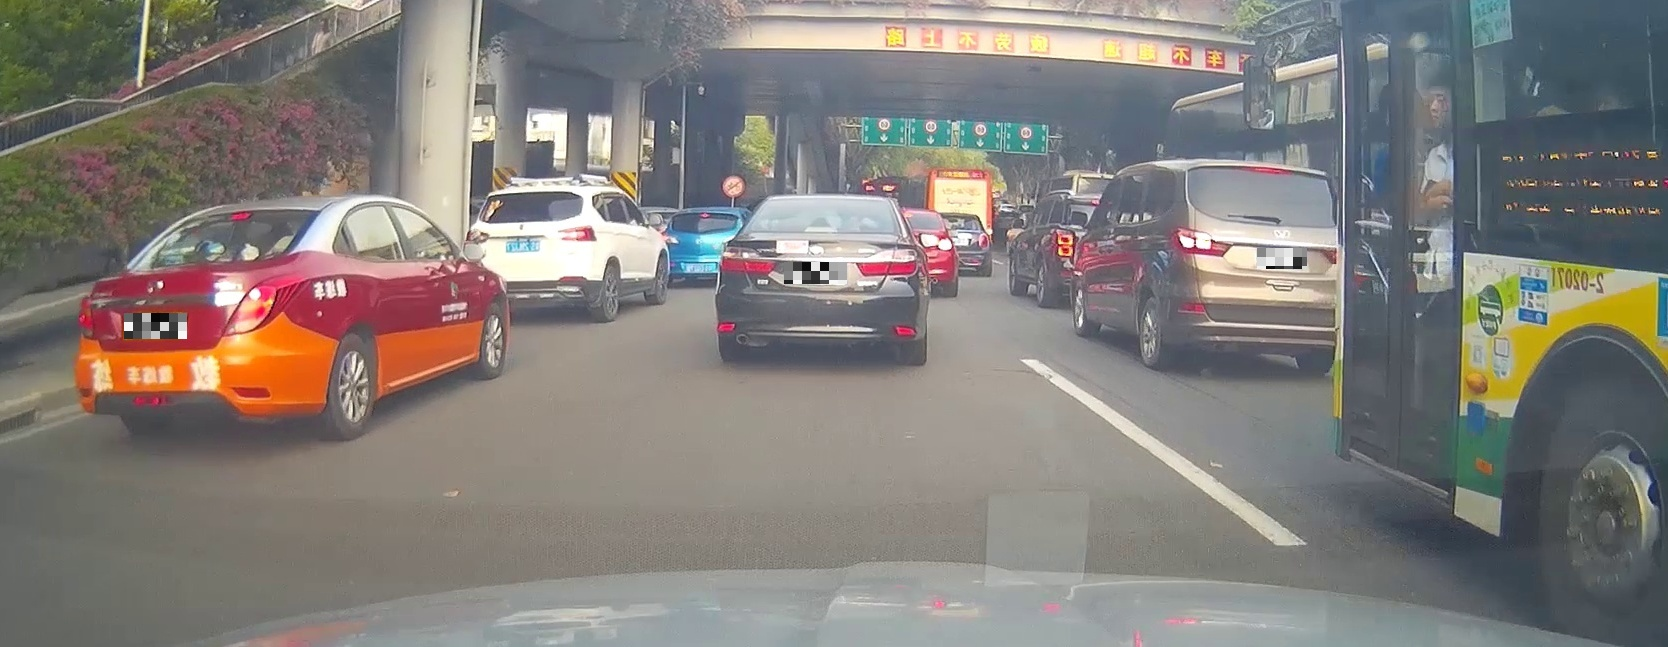L_light: (1170, 227, 1234, 258), (719, 247, 775, 275), (77, 297, 94, 339), (466, 229, 489, 243)
R_light: (221, 284, 277, 337), (855, 249, 918, 276), (556, 226, 596, 240), (1319, 247, 1338, 263)
T_light: (1252, 167, 1292, 175), (803, 225, 838, 231), (229, 212, 252, 220), (526, 193, 545, 198)
day-brake: (76, 196, 337, 438), (1168, 159, 1338, 374)
day-no: (715, 194, 925, 366), (463, 185, 600, 323)
plate_1: (124, 313, 187, 339)
plate_2: (784, 262, 847, 284)
plate_3: (1257, 248, 1307, 269)
